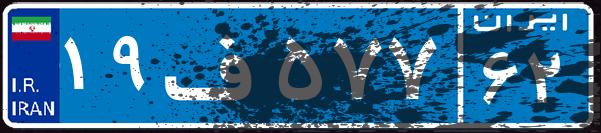1: (57, 26, 110, 107)
2: (525, 38, 570, 115)
5: (273, 28, 330, 110)
6: (475, 38, 525, 113)
7: (385, 28, 445, 110), (330, 28, 385, 110)
9: (110, 28, 158, 105)
ف: (158, 15, 273, 115)
